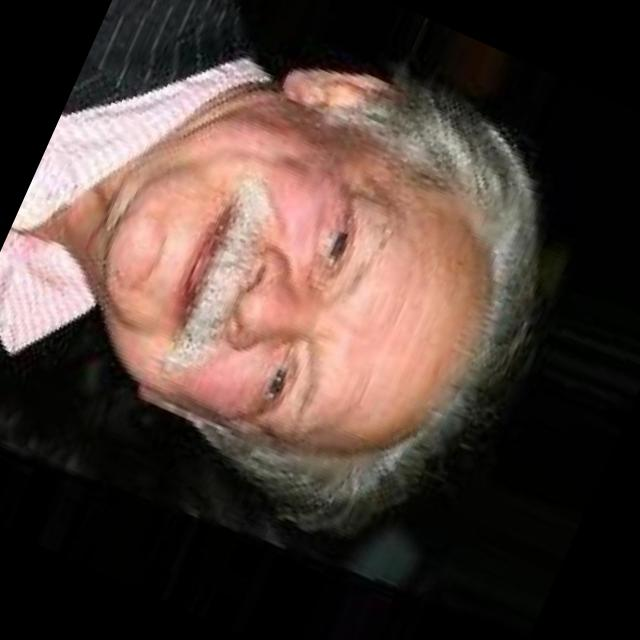bareface: (23, 0, 569, 558)
